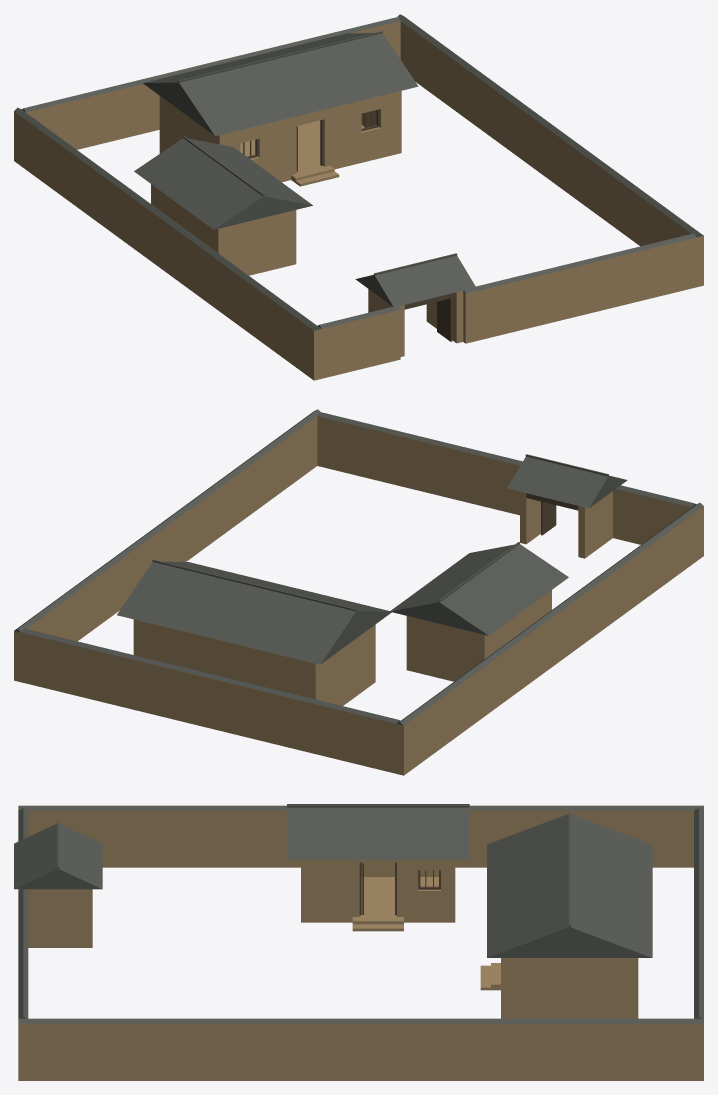
Rendered from court-A2-LOD2.glb.
The picture shows the model from 3 angles, top to bottom: view 1: azimuth 30°, elevation 25°; view 2: azimuth 150°, elevation 25°; view 3: azimuth 270°, elevation 25°; orthographic projection. The views are drawn at different scales.
Parts seen in each view (by area): view 1: court-A2-static_earth, court-A2-static_tile, court-A2-static_timber; view 2: court-A2-static_earth, court-A2-static_tile, court-A2-static_timber; view 3: court-A2-static_earth, court-A2-static_tile, court-A2-static_timber.
Boxes of the visible parts, x1,y1,x2,y2 form: court-A2-static_earth: (14,21,703,380); court-A2-static_tile: (14,14,703,330); court-A2-static_timber: (243,109,456,341); court-A2-static_earth: (14,416,703,775); court-A2-static_tile: (14,409,703,725); court-A2-static_timber: (526,493,578,535); court-A2-static_earth: (18,810,703,1080); court-A2-static_tile: (14,804,703,1023); court-A2-static_timber: (359,862,440,915).
Size of the model in its own units: 18 by 4.29 by 24.15.
